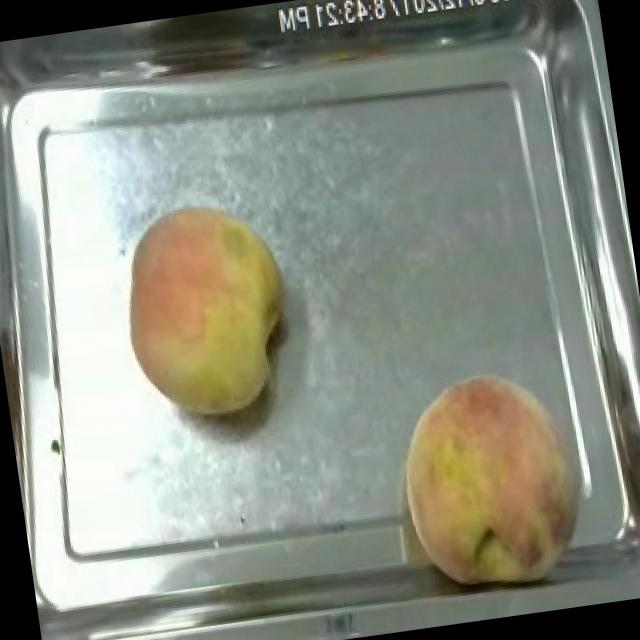Fruit: (381, 352, 603, 605), (102, 184, 308, 434)
